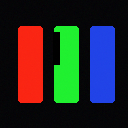4 line_v: (53, 32, 59, 64)
